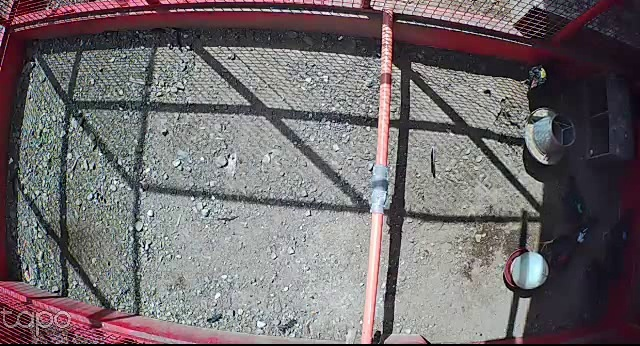Chicken: (553, 173, 595, 226), (521, 61, 561, 94)
Drinker: (502, 249, 551, 289)
Feeder: (522, 107, 579, 168)
Rooster: (534, 219, 598, 274)
Saddle_Color_Yellow: (539, 67, 548, 79)
